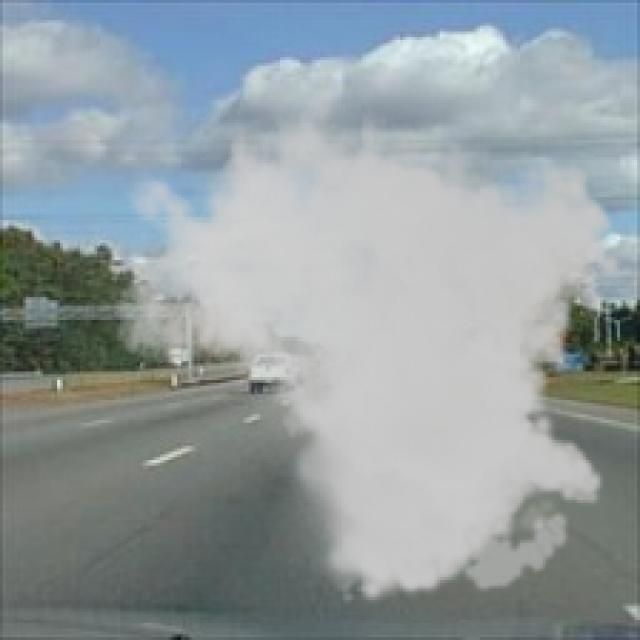Smoke: (111, 71, 626, 606)
